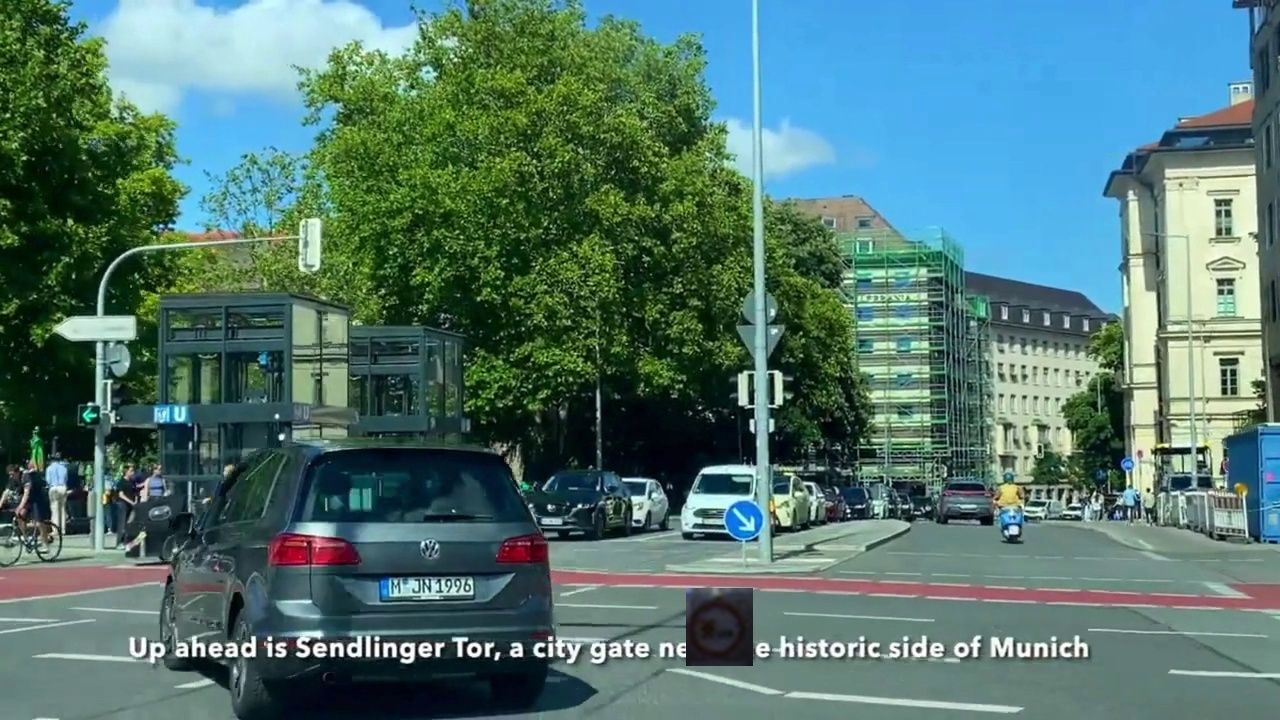No pass >3.5t: (686, 588, 753, 666)
